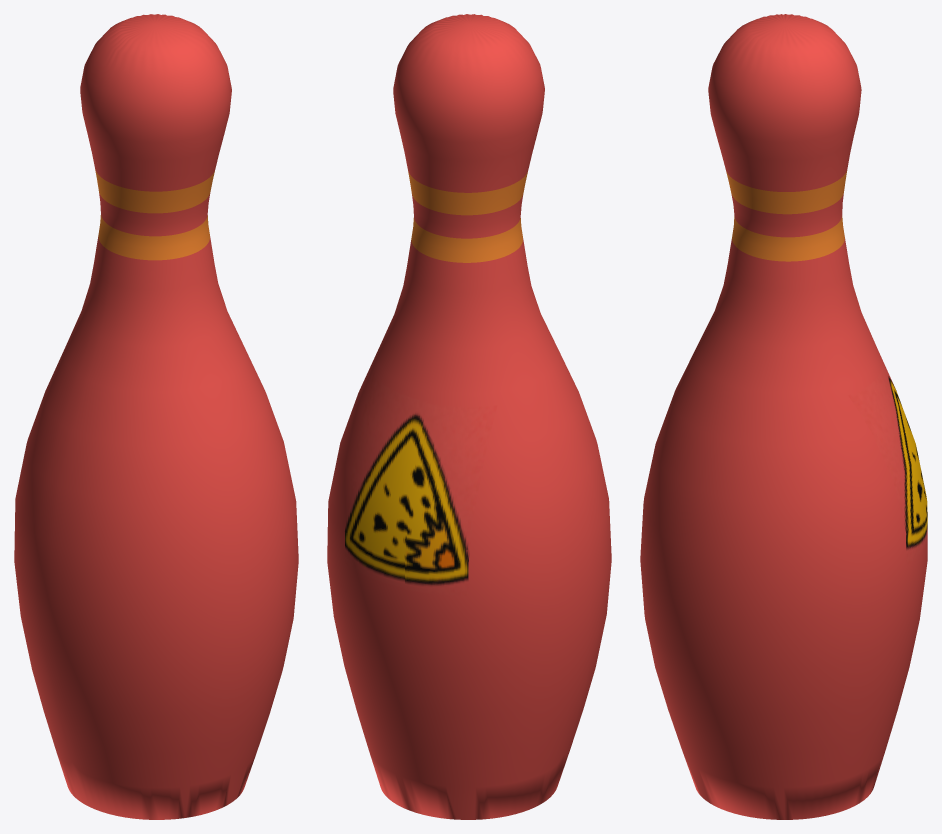
Rendered from Explosive Pin (1).fbx.
The picture shows the model from 3 angles, left to right: view 1: azimuth 30°, elevation 25°; view 2: azimuth 150°, elevation 25°; view 3: azimuth 270°, elevation 25°; orthographic projection.
Parts seen in each view (by area): view 1: Fire Pin; view 2: Fire Pin; view 3: Fire Pin.
Boxes of the visible parts, left/top/right/bottom form: Fire Pin: left=14, top=14, right=298, bottom=819; Fire Pin: left=327, top=14, right=611, bottom=819; Fire Pin: left=640, top=14, right=927, bottom=819.
Size of the model in its own units: 131 by 387 by 133.
Materials: 1 (1 with a texture image).
